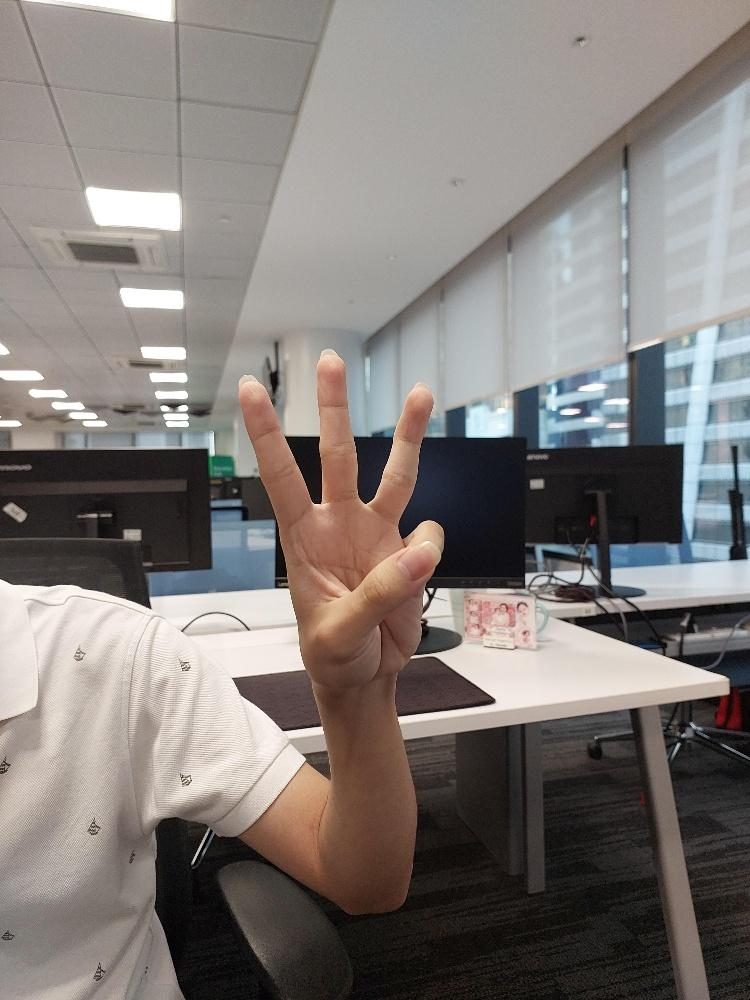w: (234, 344, 449, 696)
